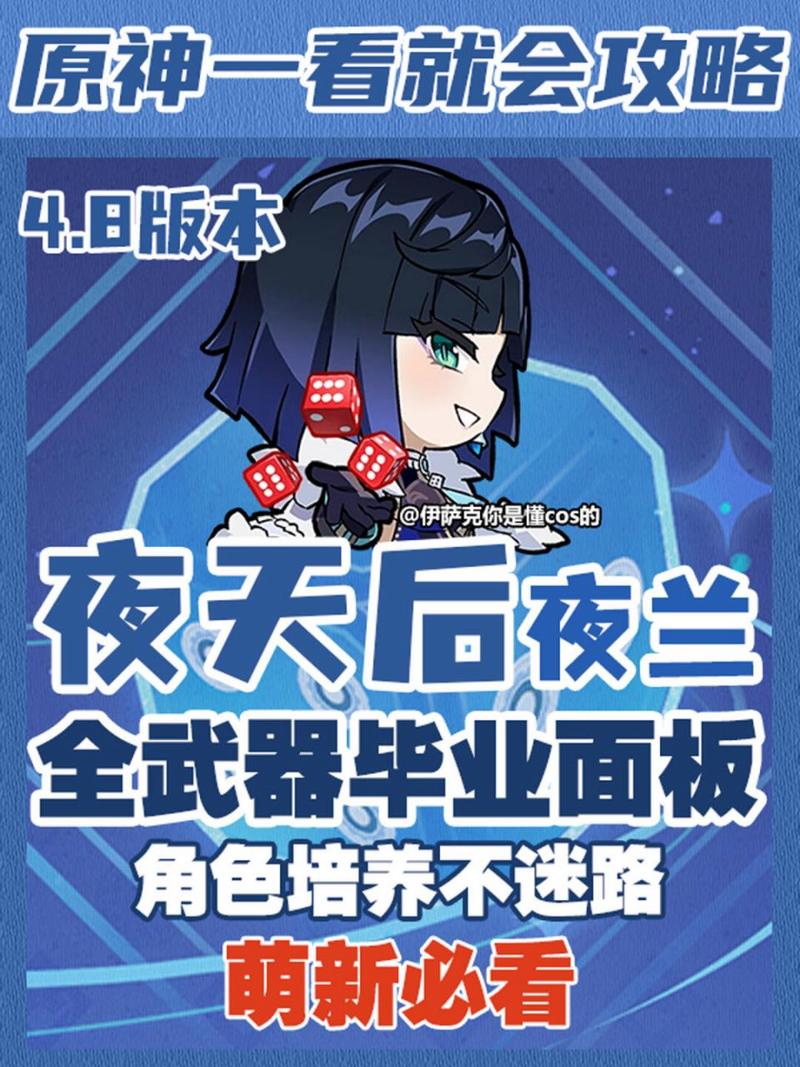夜兰: (200, 167, 584, 564)
